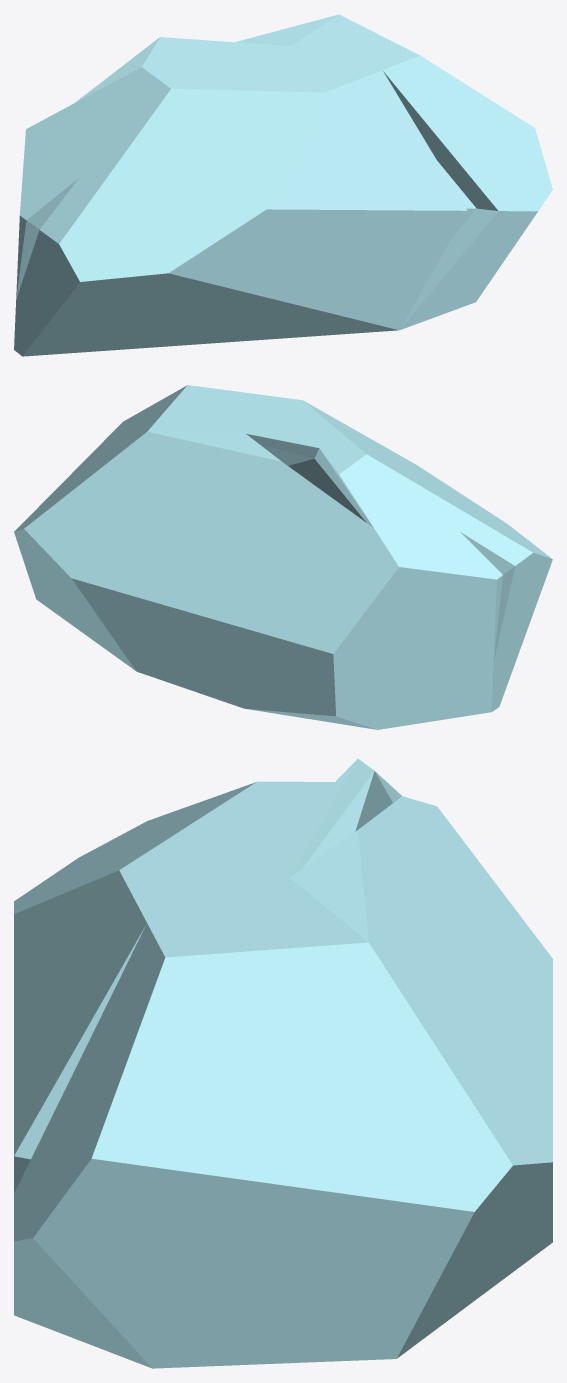
Rendered from Stone 15.fbx.
The picture shows the model from 3 angles, top to bottom: view 1: azimuth 30°, elevation 25°; view 2: azimuth 150°, elevation 25°; view 3: azimuth 270°, elevation 25°; orthographic projection. The views are drawn at different scales.
Parts seen in each view (by area): view 1: Stone 15; view 2: Stone 15; view 3: Stone 15.
Boxes of the visible parts, x1=… form: Stone 15: x1=14, y1=14, x2=552, y2=356; Stone 15: x1=14, y1=385, x2=552, y2=729; Stone 15: x1=14, y1=758, x2=552, y2=1368.
Bounding box in the file's own units: 320 × 173 × 200.
